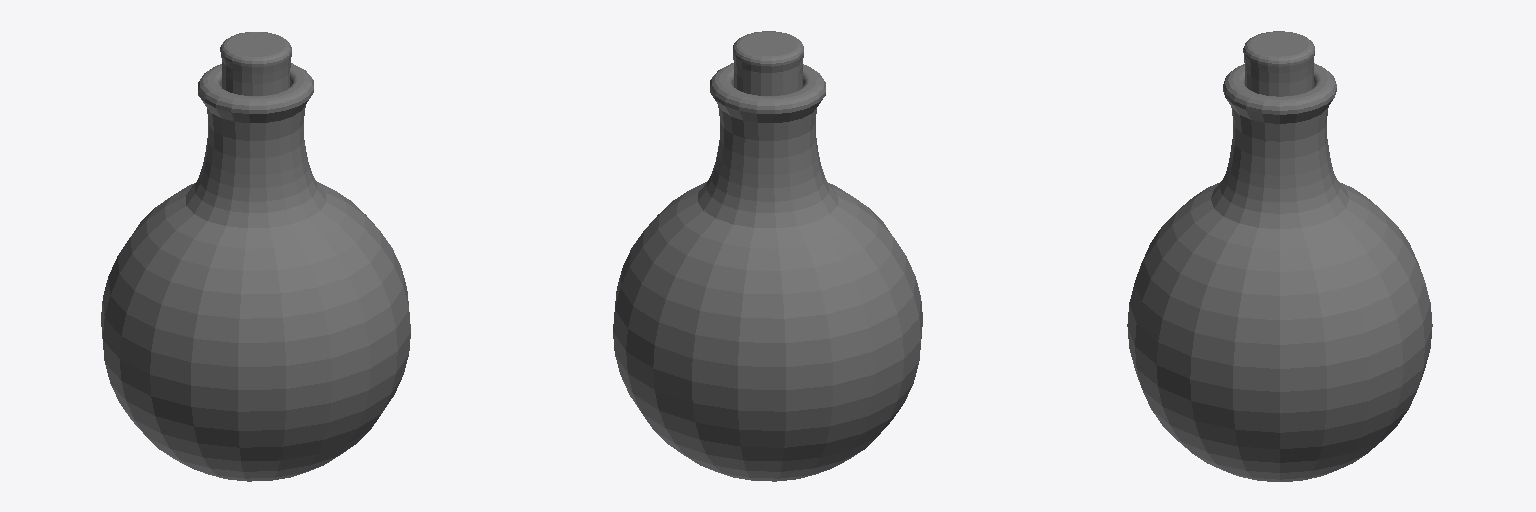
The model's file is Potion_Finished.obj.
3 views of the same model, side by side, from view 1: azimuth 30°, elevation 25°; view 2: azimuth 150°, elevation 25°; view 3: azimuth 270°, elevation 25° (orthographic).
Visible parts, largest first — view 1: group1 Potion_Transparent polySurface2, pCylinder1 group1 Potion_Transparent; view 2: group1 Potion_Transparent polySurface2, pCylinder1 group1 Potion_Transparent; view 3: group1 Potion_Transparent polySurface2, pCylinder1 group1 Potion_Transparent.
Part boxes in pixels (x1,y1,x2,y2): group1 Potion_Transparent polySurface2: (101,63,410,481); pCylinder1 group1 Potion_Transparent: (220,32,291,95); group1 Potion_Transparent polySurface2: (613,63,922,481); pCylinder1 group1 Potion_Transparent: (733,31,803,95); group1 Potion_Transparent polySurface2: (1127,63,1432,481); pCylinder1 group1 Potion_Transparent: (1243,31,1314,96).
Bounding box in the file's own units: 11.11 × 16.48 × 10.77.